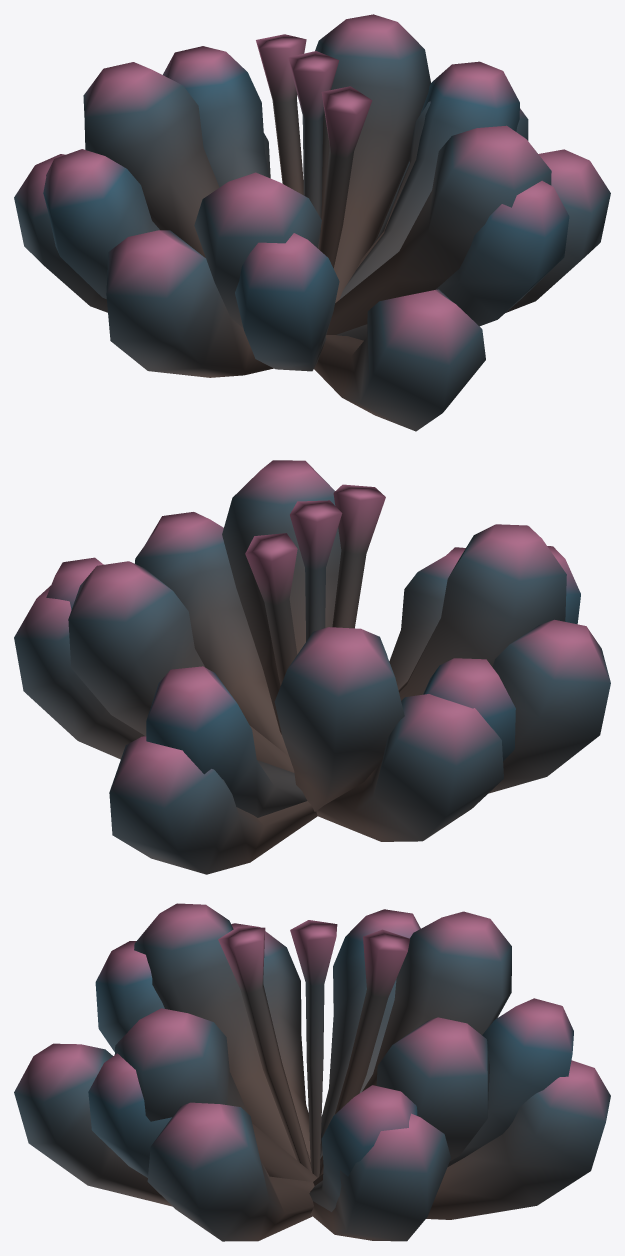
Rendered from plants-cacti-succulents-baby-toes_v4.glb.
The picture shows the model from 3 angles, top to bottom: view 1: azimuth 30°, elevation 25°; view 2: azimuth 150°, elevation 25°; view 3: azimuth 270°, elevation 25°; orthographic projection. The views are drawn at different scales.
Parts seen in each view (by area): view 1: Baby Toes_v4; view 2: Baby Toes_v4; view 3: Baby Toes_v4.
Part boxes in pixels (box(x1,y1,x2,y2)): Baby Toes_v4: box(14, 14, 610, 431); Baby Toes_v4: box(14, 460, 610, 874); Baby Toes_v4: box(14, 903, 610, 1241).
Size of the model in its own units: 0.1349 by 0.0783 by 0.15.
